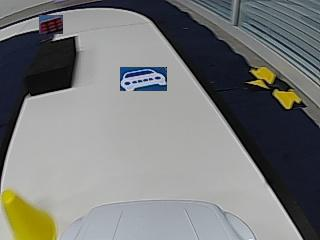block: (25, 36, 75, 95)
cone: (1, 190, 56, 239)
